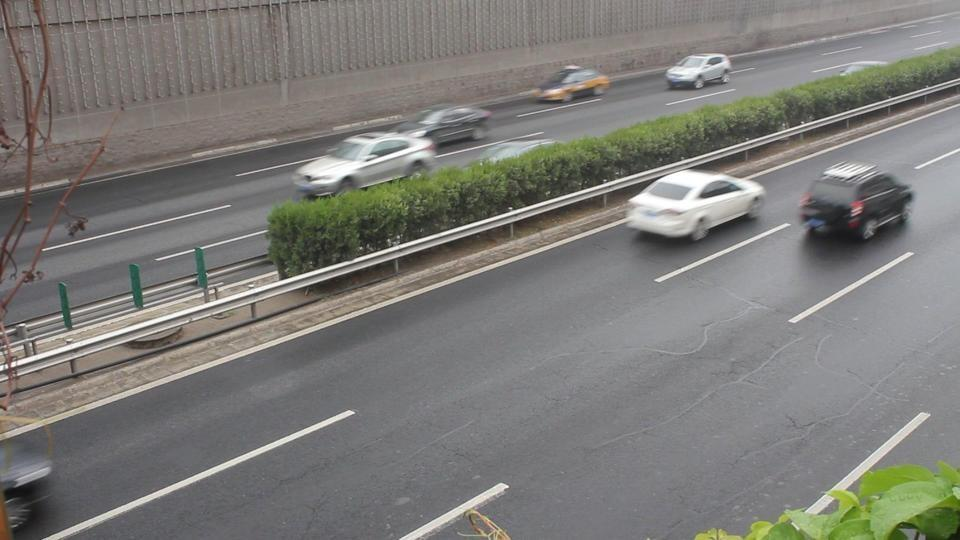car: (624, 168, 766, 242), (291, 132, 435, 200), (797, 160, 915, 242), (0, 410, 55, 527), (398, 103, 492, 150), (531, 65, 612, 104), (665, 53, 732, 90)
